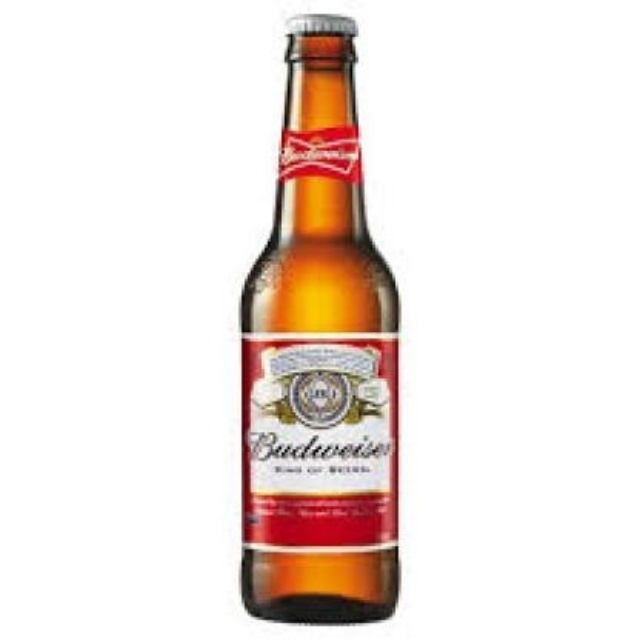trash: (242, 14, 397, 622)
